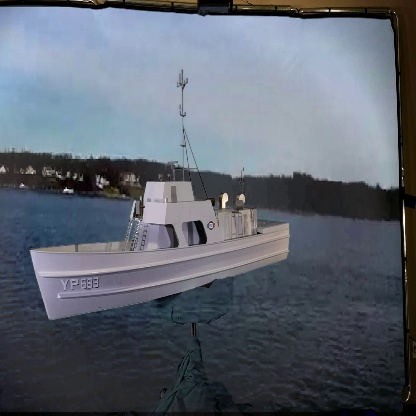YP689: (29, 69, 292, 324)
